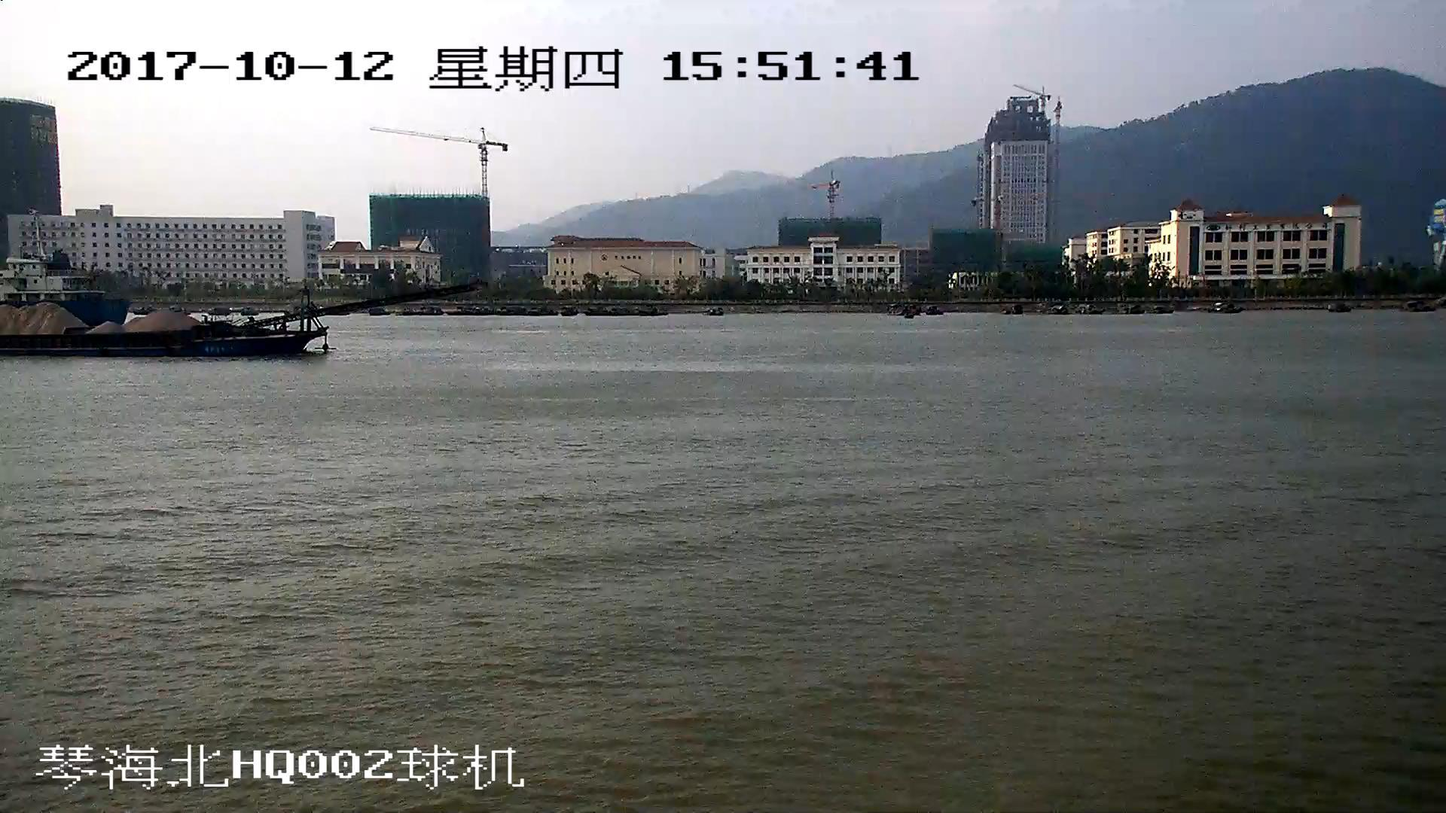ore carrier: (0, 284, 471, 351)
